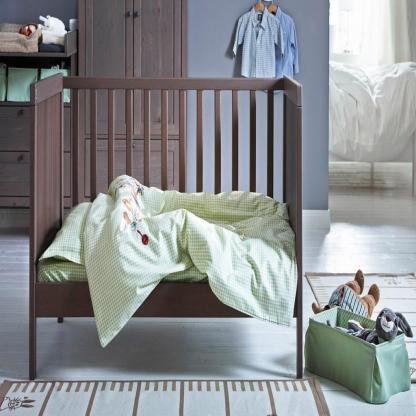Bed: (28, 73, 306, 381)
